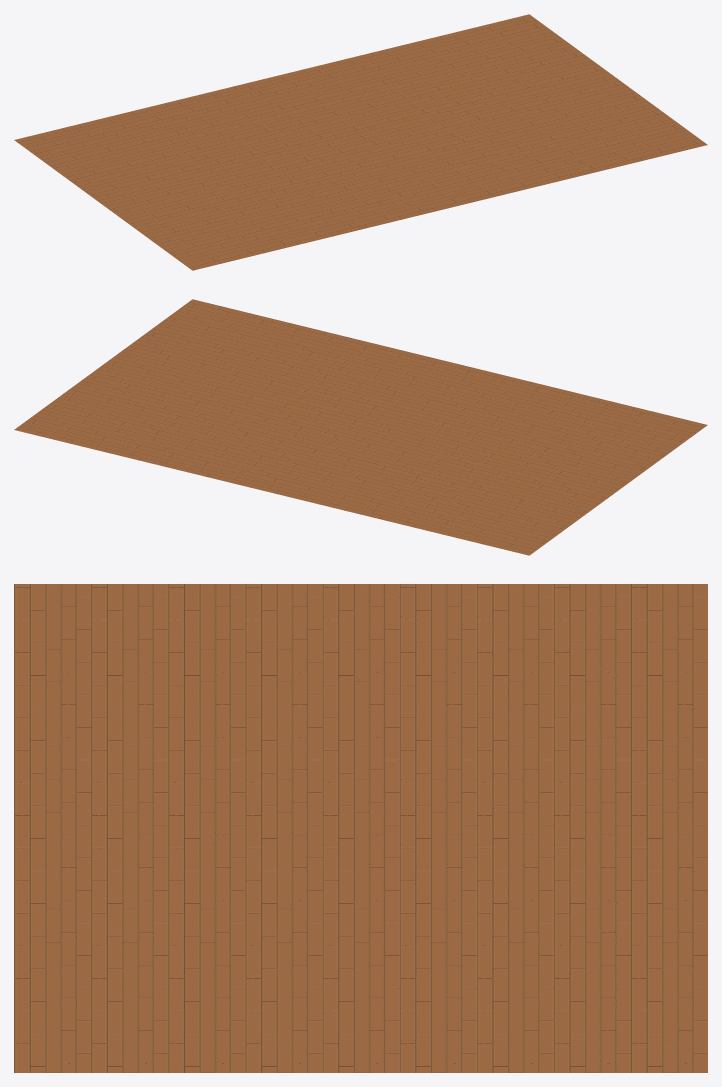
Rendered from Floor_main.fbx.
3 renders of one model, top to bottom at view 1: azimuth 30°, elevation 25°; view 2: azimuth 150°, elevation 25°; view 3: azimuth 270°, elevation 25°, orthographic. The views are drawn at different scales.
Parts seen in each view (by area): view 1: Floor_low; view 2: Floor_low; view 3: Floor_low.
Boxes of the visible parts, <box> form: Floor_low: <box>14,14,707,270</box>; Floor_low: <box>14,299,707,555</box>; Floor_low: <box>14,584,707,1072</box>.
Size of the model in its own units: 2250 by 0.000102 by 1350.
1 material, 1 textured.
